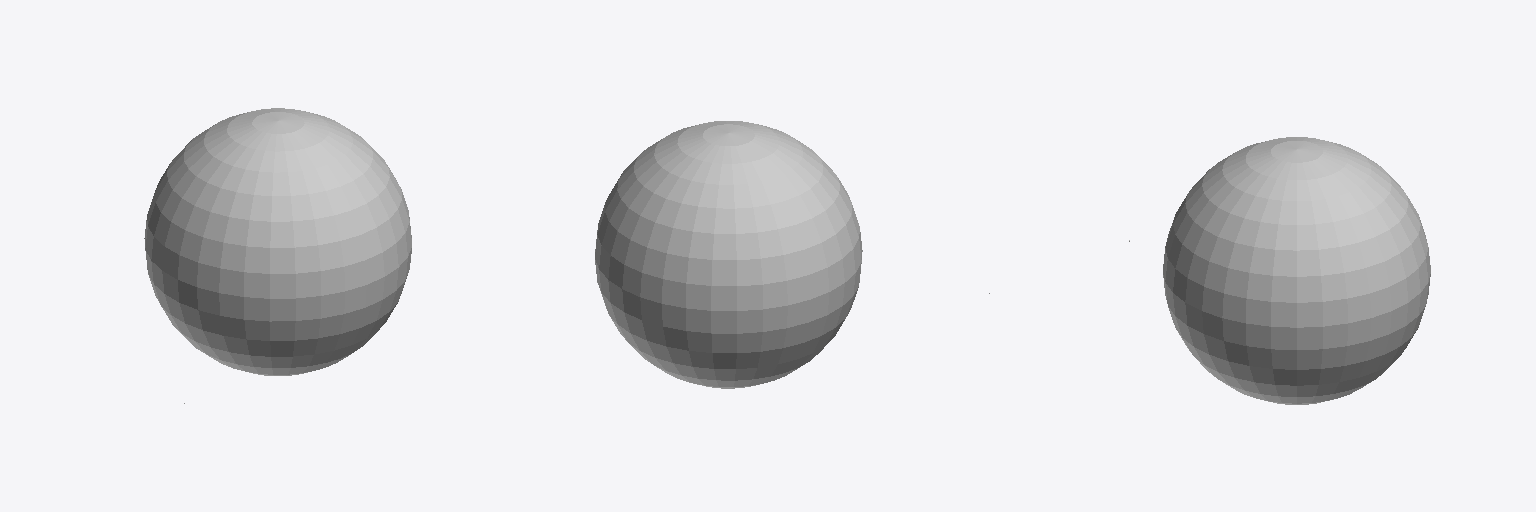
The model's file is unicorn fu.obj.
3 renders of one model, left to right at view 1: azimuth 30°, elevation 25°; view 2: azimuth 150°, elevation 25°; view 3: azimuth 270°, elevation 25°, orthographic.
Parts seen in each view (by area): view 1: Sphere; view 2: Sphere; view 3: Sphere.
Part boxes in pixels (x1,y1,x2,y2): Sphere: (144,108,411,375); Sphere: (595,121,862,388); Sphere: (1163,137,1430,404).
Bounding box in the file's own units: 33.65 × 26.59 × 29.94.